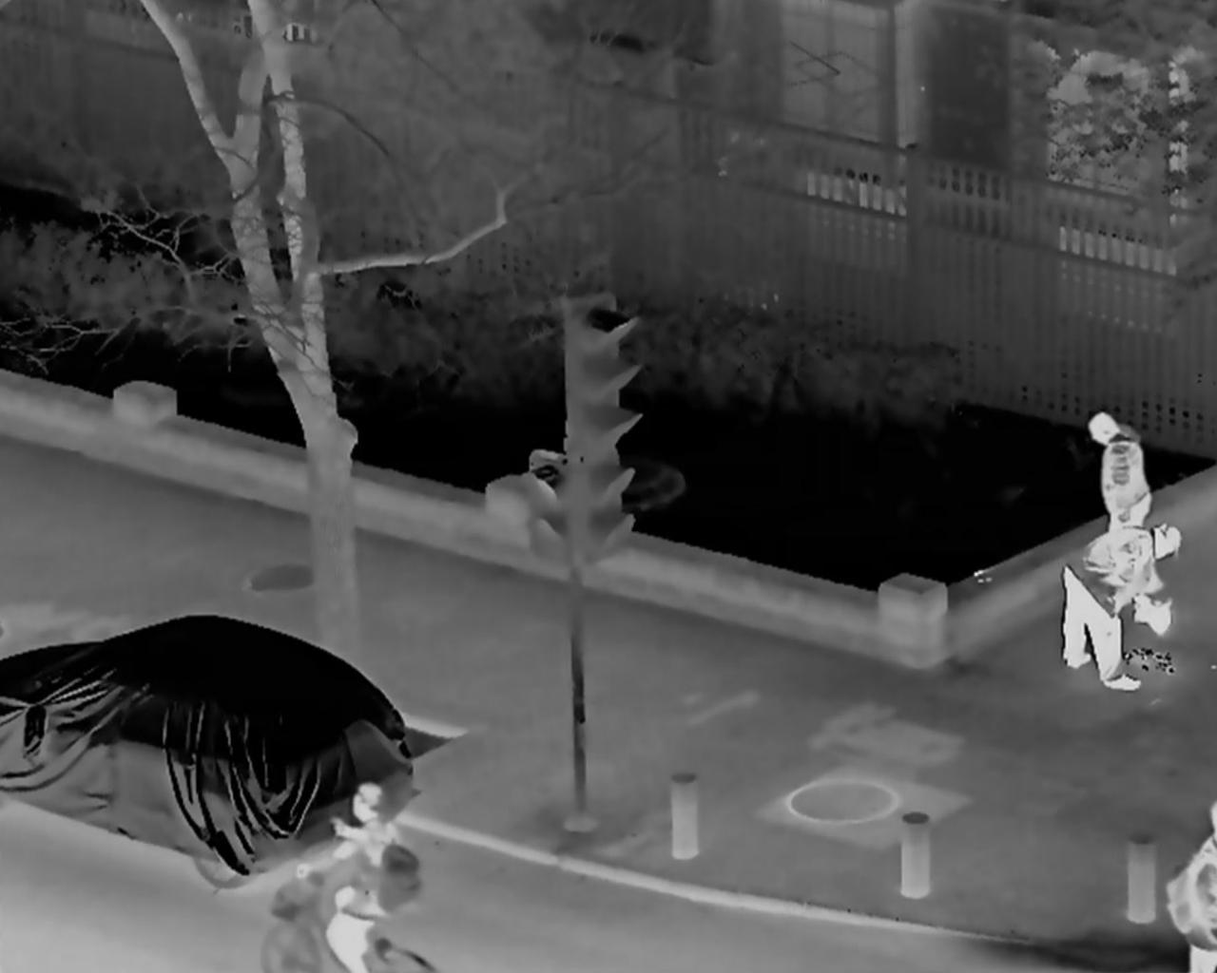person: (303, 783, 416, 973), (1057, 526, 1176, 692), (1084, 411, 1158, 604), (1165, 796, 1217, 973)
